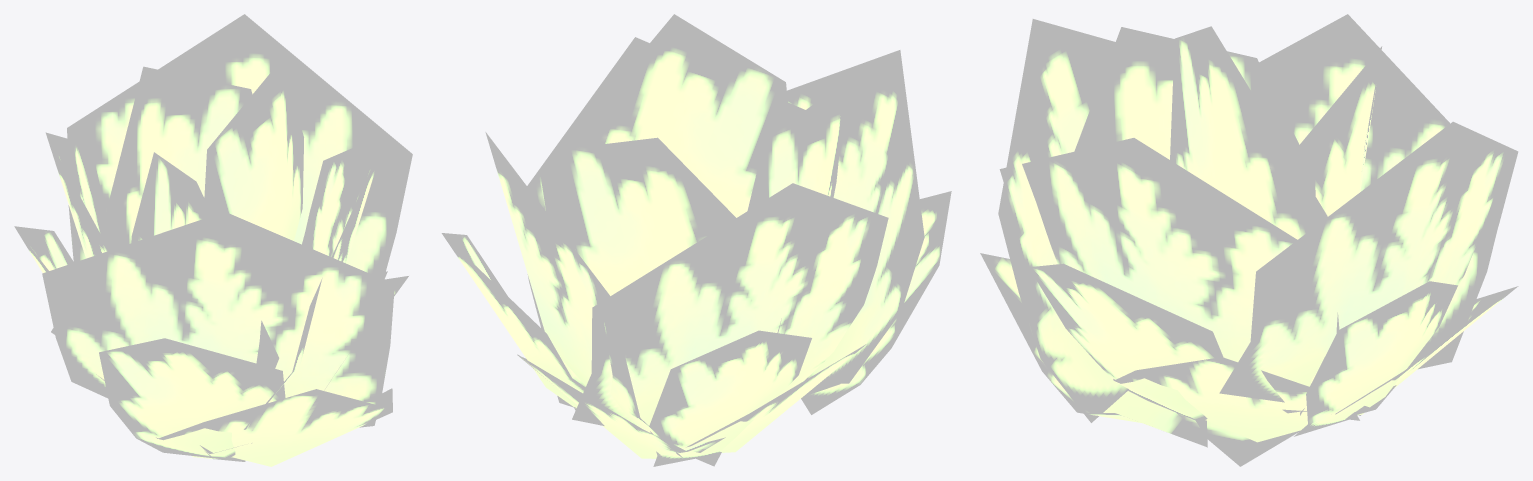
File: SM_ShrubD.fbx
3 renders of one model, left to right at view 1: azimuth 30°, elevation 25°; view 2: azimuth 150°, elevation 25°; view 3: azimuth 270°, elevation 25°, orthographic. The views are drawn at different scales.
Parts seen in each view (by area): view 1: SM_ShrubD; view 2: SM_ShrubD; view 3: SM_ShrubD.
Boxes of the visible parts, bbox=[...] form: SM_ShrubD: bbox=[14, 14, 412, 466]; SM_ShrubD: bbox=[441, 14, 951, 466]; SM_ShrubD: bbox=[980, 14, 1518, 466].
Bounding box in the file's own units: 32.26 × 34.48 × 31.99.
